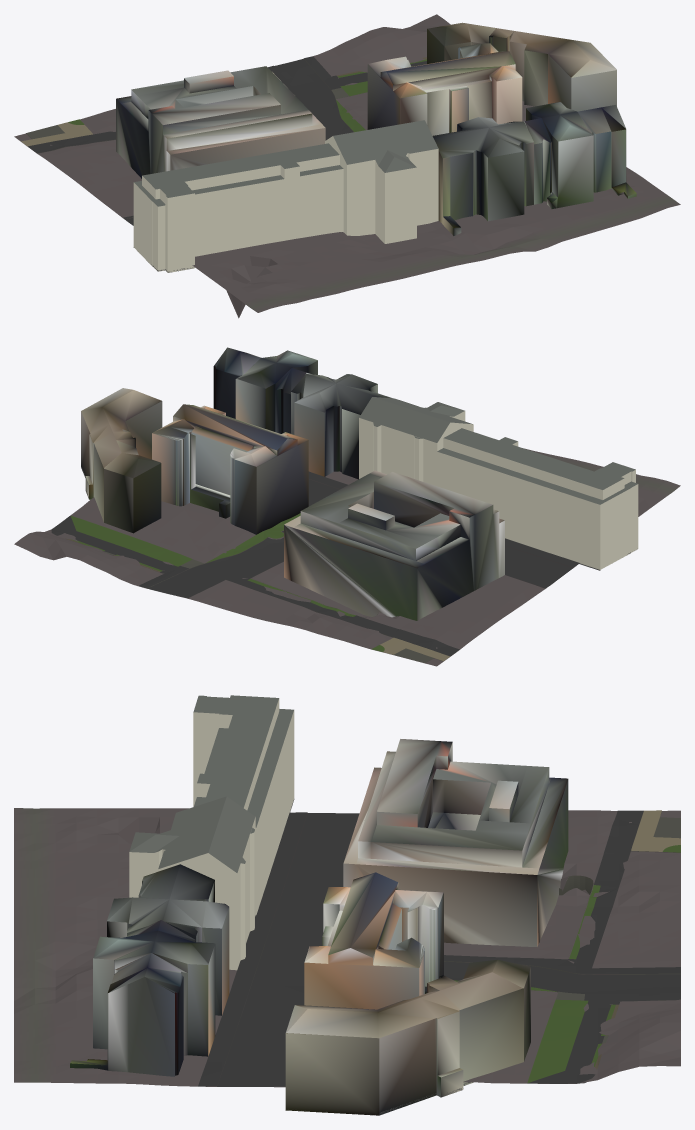
3 views of the same model, one above another, from view 1: azimuth 30°, elevation 25°; view 2: azimuth 150°, elevation 25°; view 3: azimuth 270°, elevation 25° (orthographic). The views are drawn at different scales.
Visible parts, largest first — view 1: c_m13_m01; view 2: c_m13_m01; view 3: c_m13_m01.
Boxes of the visible parts, x1,y1,x2,y2 form: c_m13_m01: (14,14,680,318); c_m13_m01: (14,347,680,666); c_m13_m01: (14,695,680,1115).
Size of the model in its own units: 150 by 37.17 by 128.
